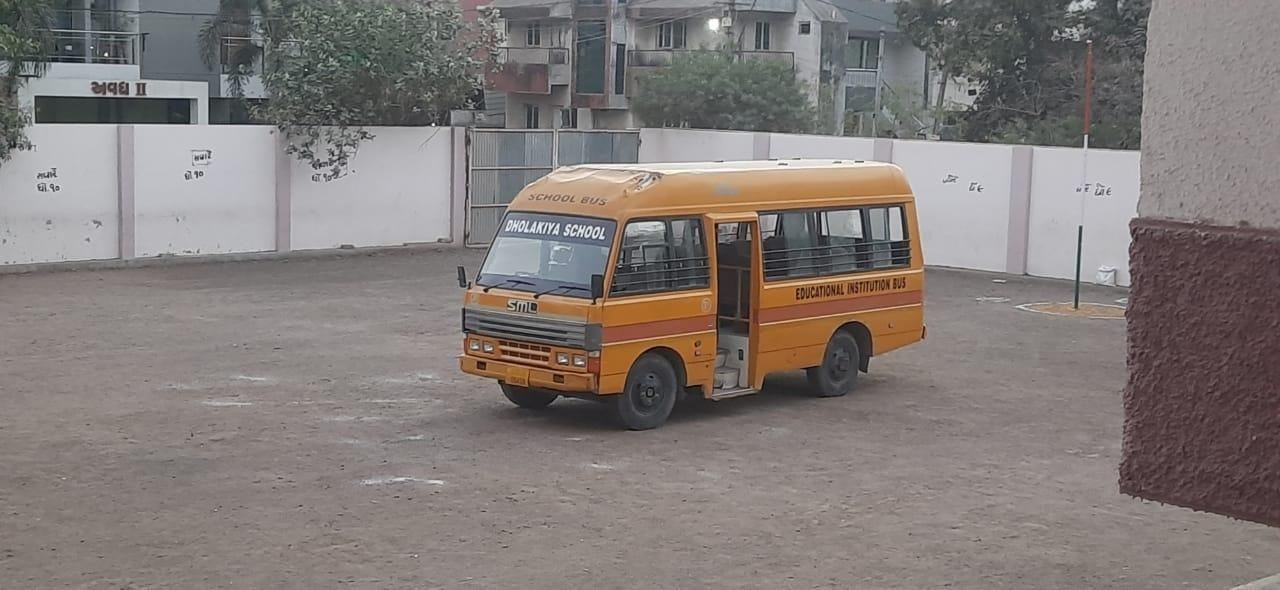Bus: (453, 154, 947, 439)
